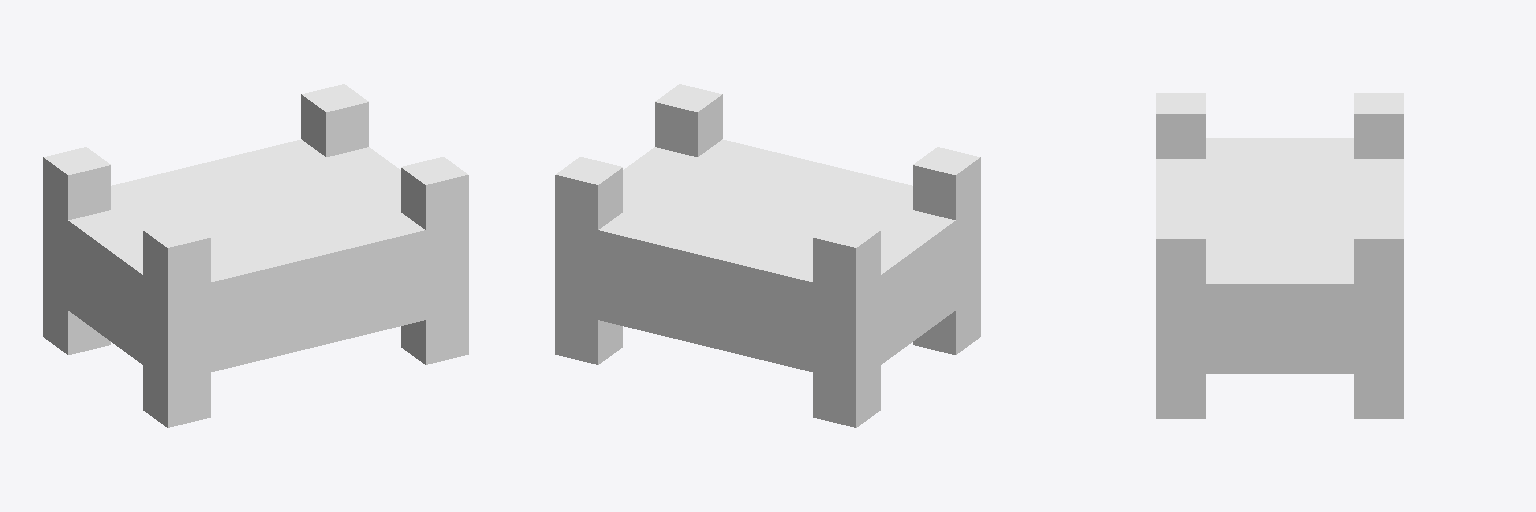
The model's file is farm-16-feeder.obj.
The picture shows the model from 3 angles: view 1: azimuth 30°, elevation 25°; view 2: azimuth 150°, elevation 25°; view 3: azimuth 270°, elevation 25°; orthographic projection.
Parts seen in each view (by area): view 1: feeder; view 2: feeder; view 3: feeder.
Part boxes in pixels (x1,y1,x2,y2): feeder: (43, 84, 468, 427); feeder: (555, 84, 980, 427); feeder: (1156, 93, 1403, 418).
Size of the model in its own units: 0.7 by 0.4 by 0.5.